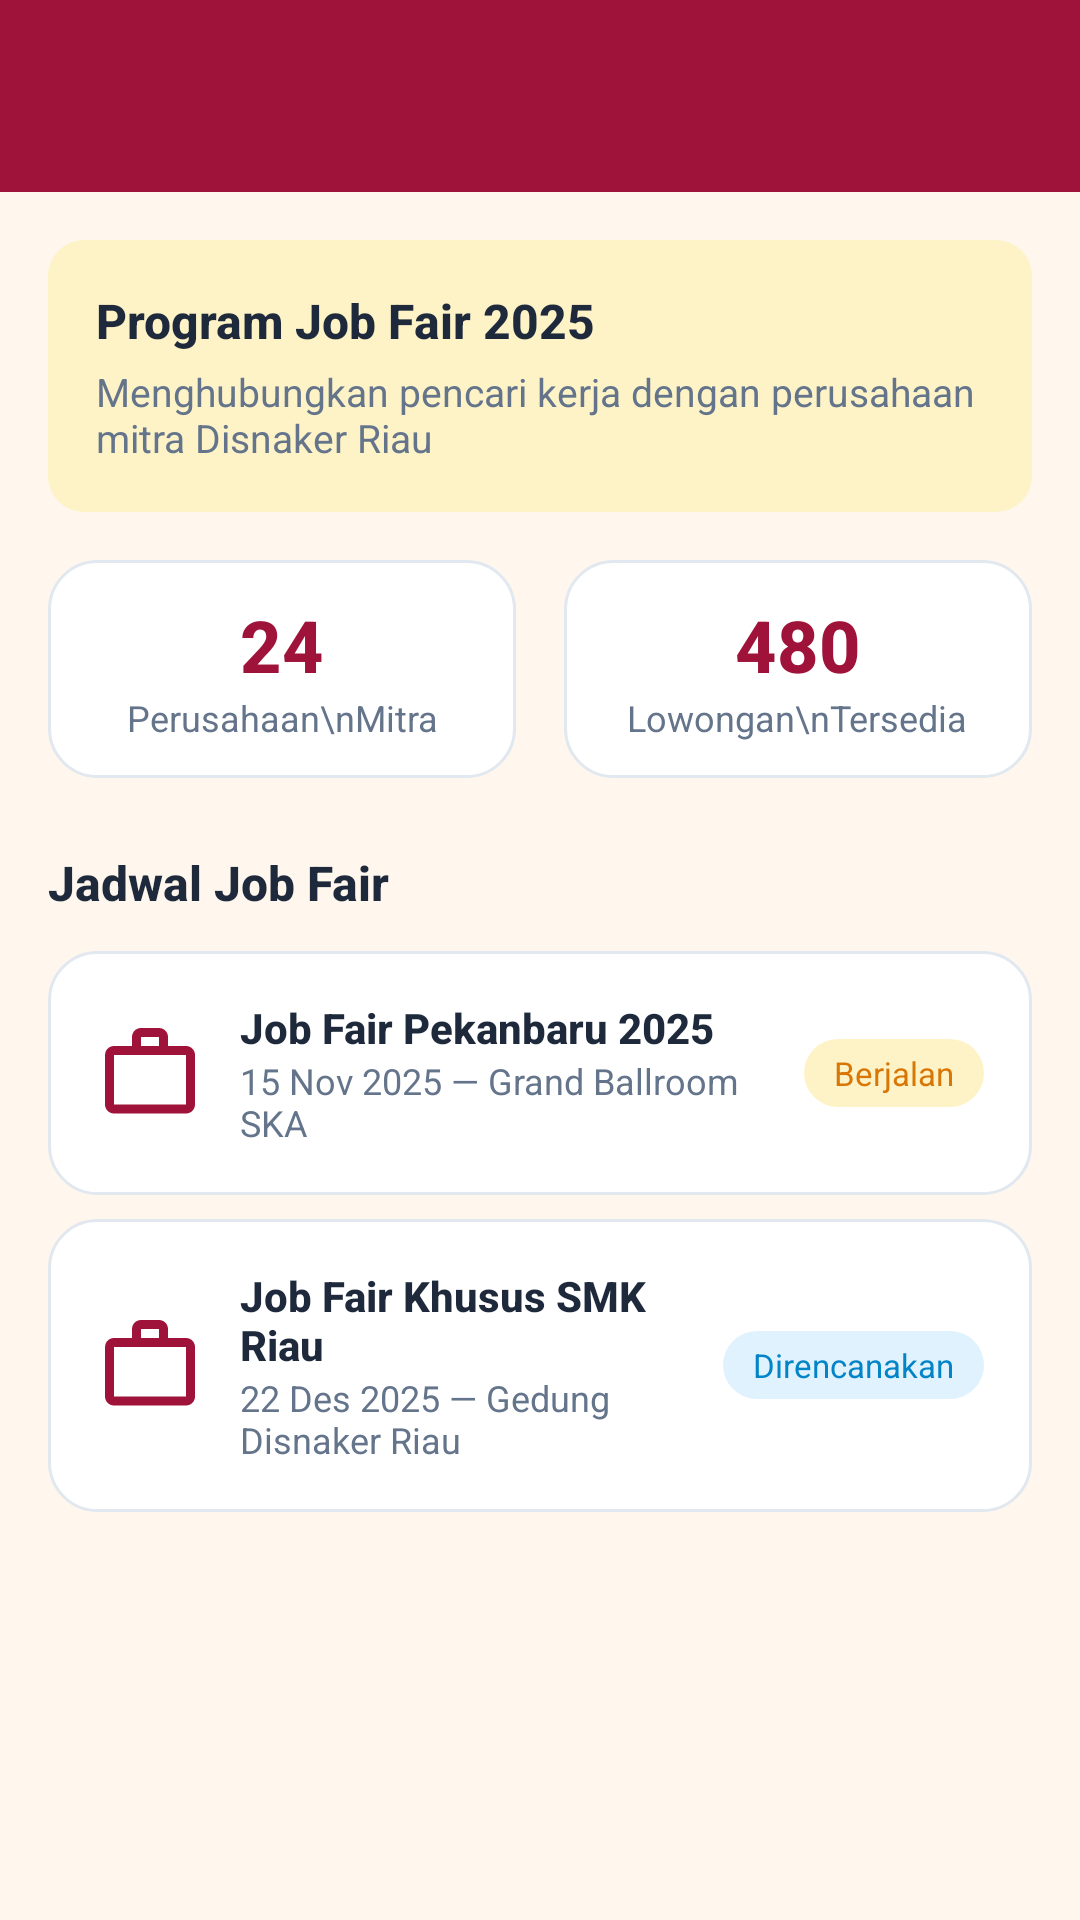

Icons on this 1080*1920 Android screen, each with its box as bbox=(x1, y1, x2, y2):
briefcase: bbox=(105, 1028, 195, 1114), bbox=(105, 1320, 195, 1406)
